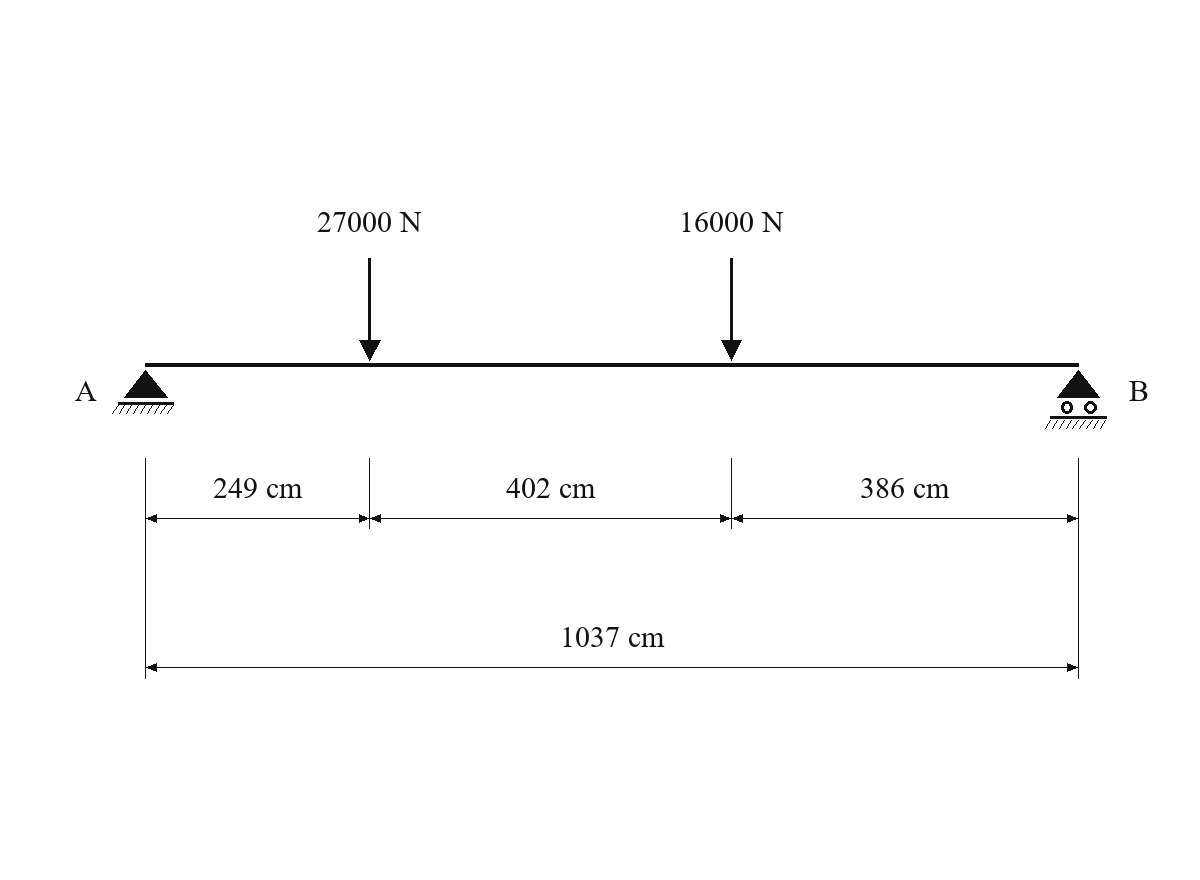pin_support: (112, 370, 174, 414)
point_load: (359, 258, 381, 361), (721, 258, 742, 361)
roller_support: (1045, 370, 1107, 429)
